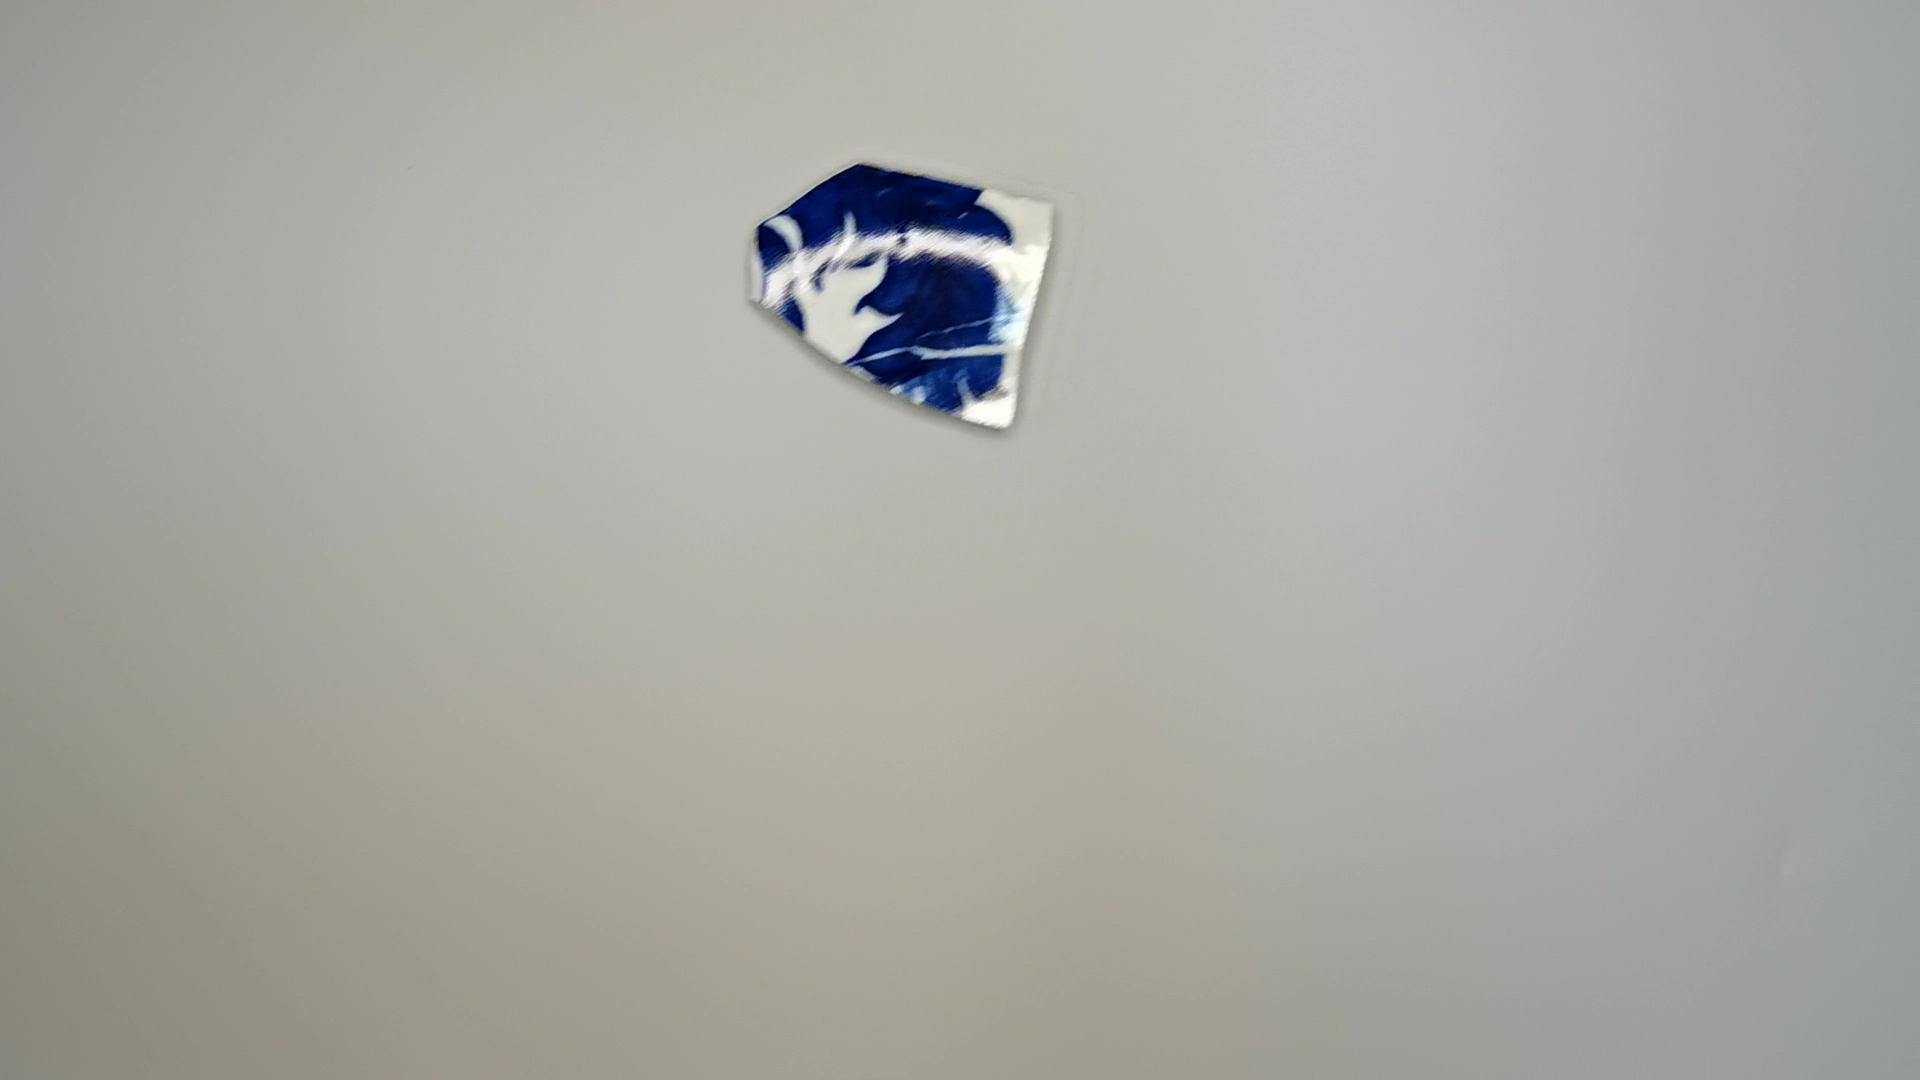ceramic: (738, 156, 1071, 438)
